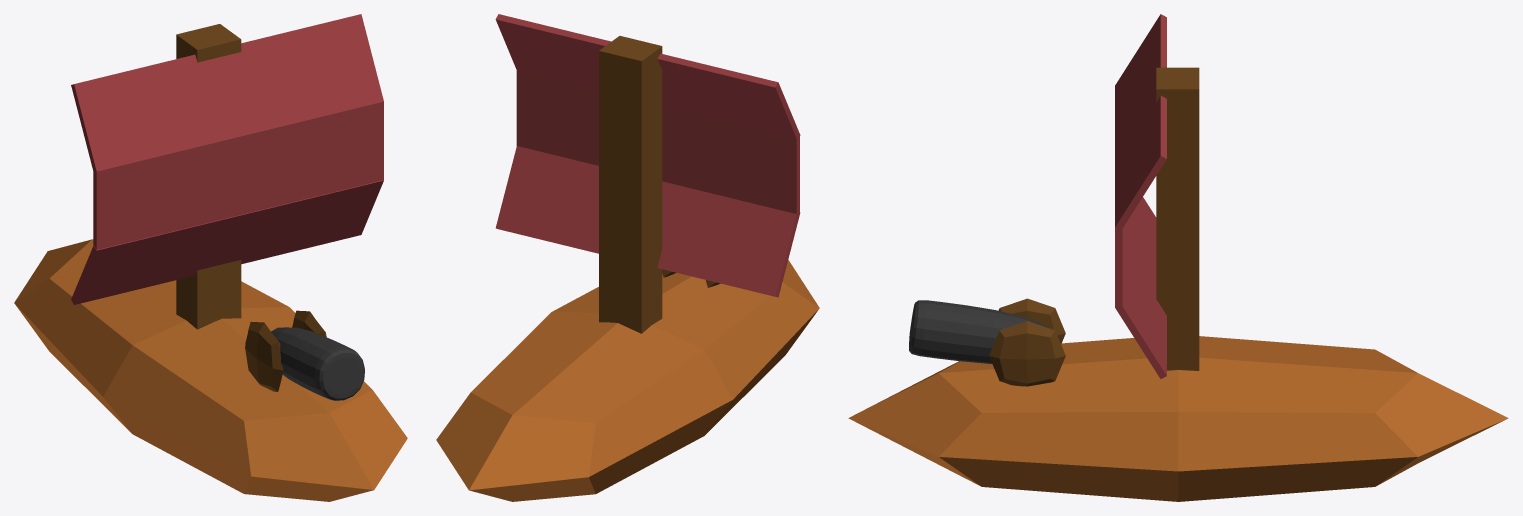
The model's file is EvilLevel1Boat.fbx.
3 views of the same model, side by side, from view 1: azimuth 30°, elevation 25°; view 2: azimuth 150°, elevation 25°; view 3: azimuth 270°, elevation 25° (orthographic). The views are drawn at different scales.
Parts seen in each view (by area): view 1: Cube, Cube.006, Cube.003, Cube.007, Cube.002, Cube.008, Cube.004, Cube.005; view 2: Cube, Cube.007, Cube.002, Cube.003, Cube.006; view 3: Cube, Cube.002, Cube.006, Cube.007, Cube.008, Cube.005, Cube.004.
Part boxes in pixels (bbox=[...]): Cube: bbox=[14, 239, 407, 501]; Cube.006: bbox=[71, 14, 383, 172]; Cube.003: bbox=[93, 101, 383, 249]; Cube.007: bbox=[71, 180, 383, 304]; Cube.002: bbox=[176, 24, 241, 329]; Cube.008: bbox=[271, 327, 364, 400]; Cube.004: bbox=[245, 322, 283, 391]; Cube.005: bbox=[292, 310, 326, 337]; Cube: bbox=[436, 260, 819, 501]; Cube.007: bbox=[495, 146, 800, 297]; Cube.002: bbox=[599, 36, 662, 333]; Cube.003: bbox=[516, 70, 799, 213]; Cube.006: bbox=[495, 14, 800, 140]; Cube: bbox=[848, 336, 1508, 501]; Cube.002: bbox=[1156, 67, 1199, 370]; Cube.006: bbox=[1115, 14, 1166, 227]; Cube.007: bbox=[1115, 197, 1166, 378]; Cube.008: bbox=[909, 300, 1059, 363]; Cube.005: bbox=[989, 321, 1065, 386]; Cube.004: bbox=[998, 298, 1065, 344].
Size of what is drawn, in the model's own units: 1101 by 1449 by 2165.
